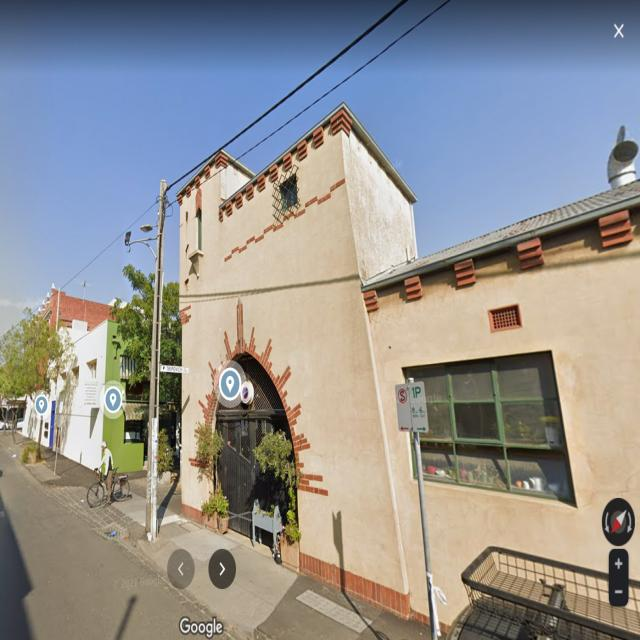streetlight: (141, 221, 158, 234)
timber-pole: (145, 176, 167, 539)
